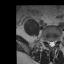CCS_normal: (51, 39, 53, 48)
LFS_normal: (55, 37, 57, 44)
LLS_normal: (53, 39, 55, 47)
RFS_normal: (46, 37, 48, 44)
RLS_normal: (48, 39, 51, 47)
